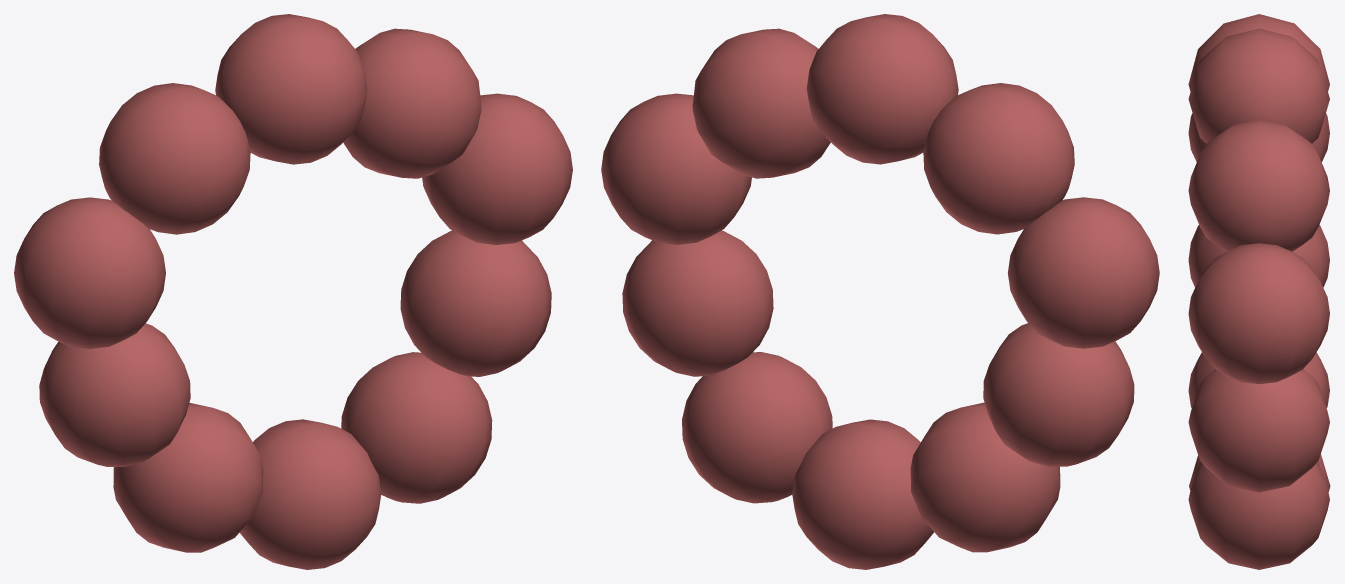
Rendered from juzu.fbx.
3 views of the same model, side by side, from view 1: azimuth 30°, elevation 25°; view 2: azimuth 150°, elevation 25°; view 3: azimuth 270°, elevation 25° (orthographic). The views are drawn at different scales.
Visible parts, largest first — view 1: juzu; view 2: juzu; view 3: juzu.
Boxes of the visible parts, bbox=[...] form: juzu: bbox=[14, 14, 572, 569]; juzu: bbox=[601, 14, 1159, 569]; juzu: bbox=[1188, 14, 1330, 569].
Size of the model in its own units: 1.23 by 1.19 by 0.301.
